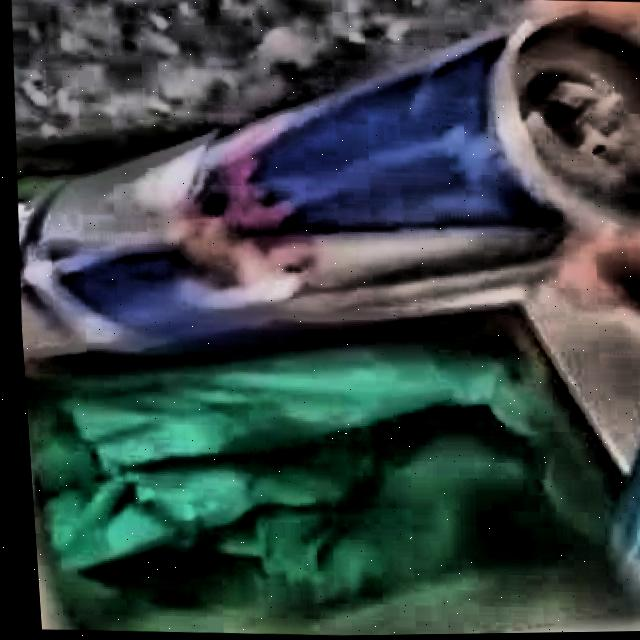metal: (15, 20, 640, 346)
